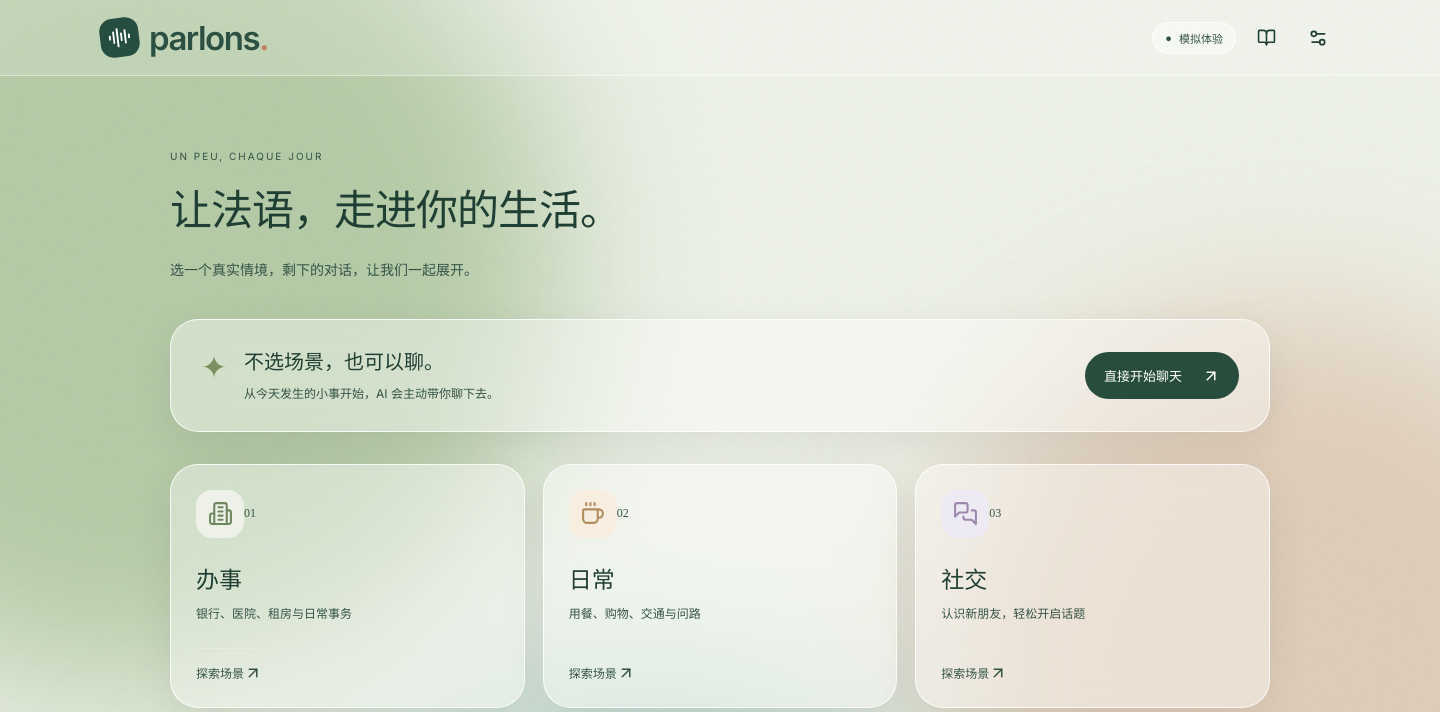
Test: Pause submits the current spoken turn, responds and does not restart listening
Click the button "直接开始聊天" at (1162,376), box [1085,352,1239,399]
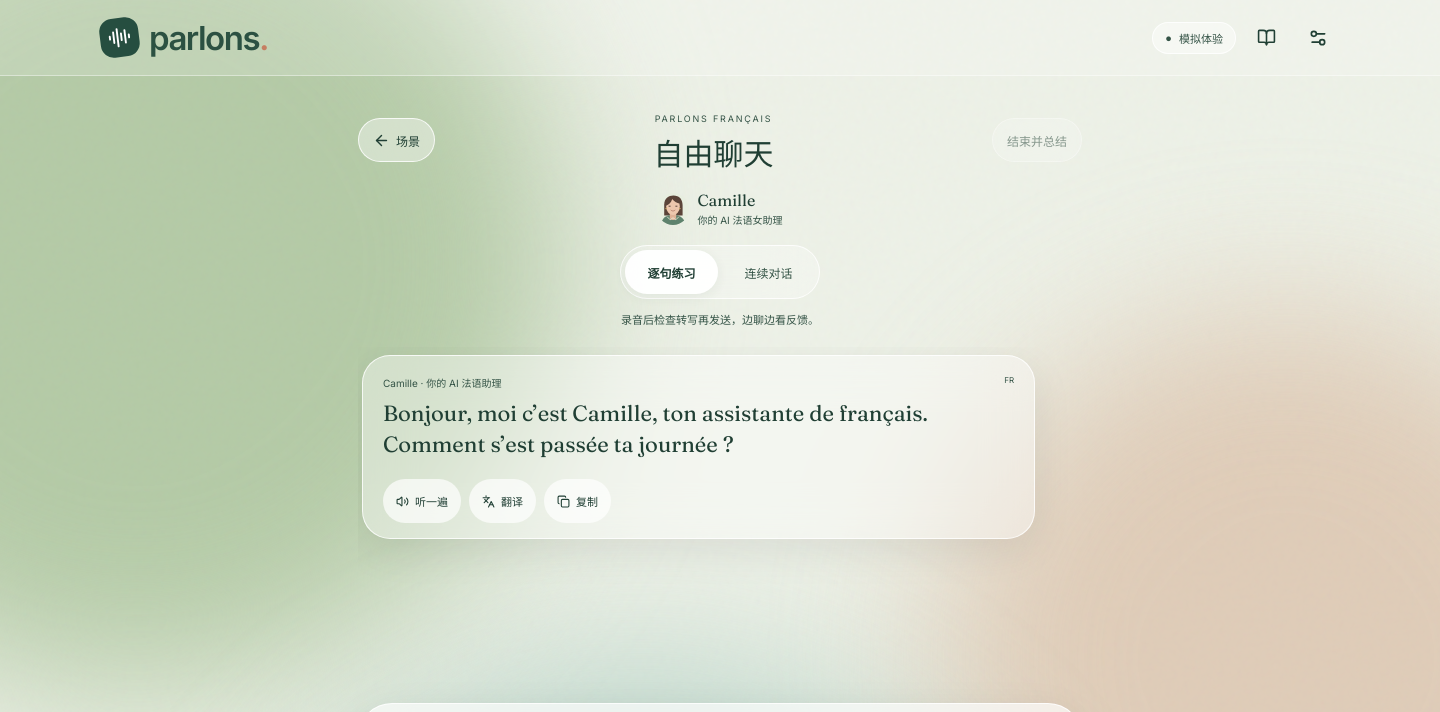
Click the button "连续对话" at (768,272), box [722,250,814,294]
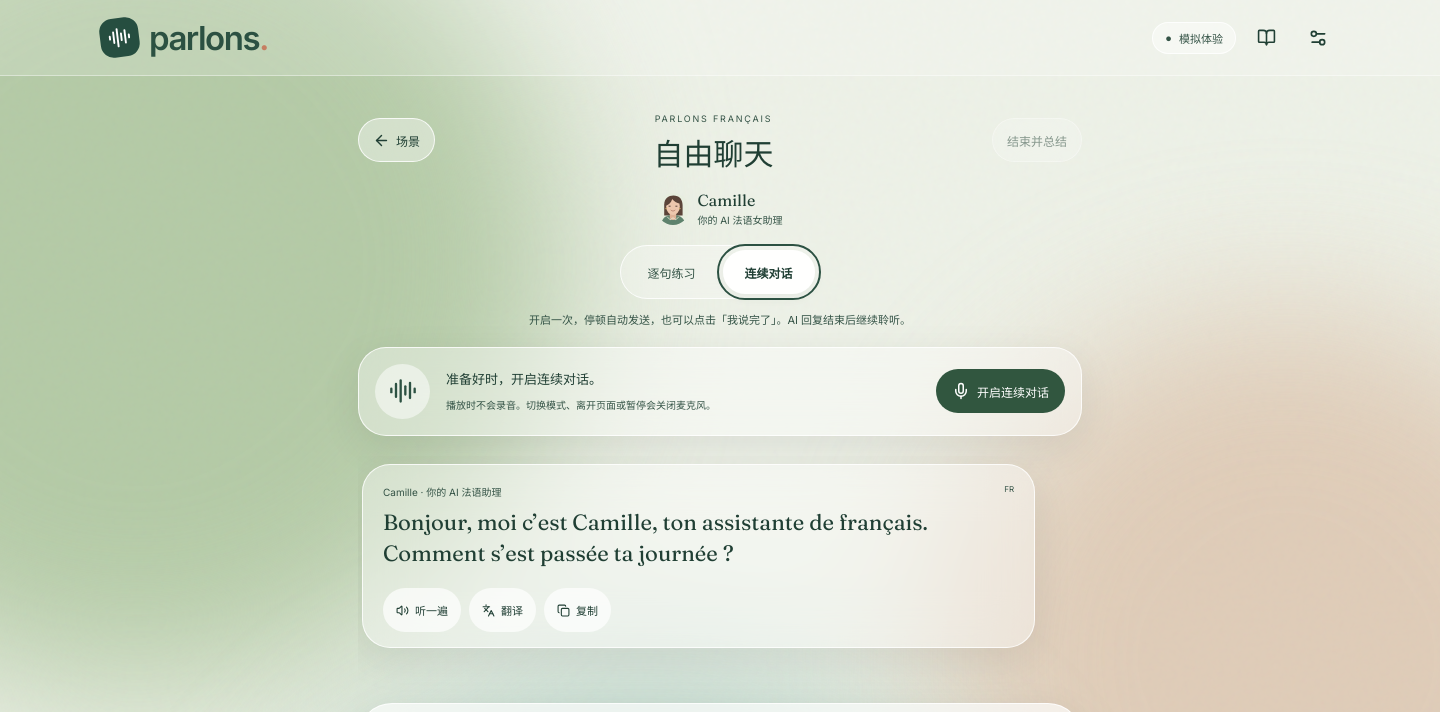
Click the button "开启连续对话" at (1000,391), box [936,369,1065,413]
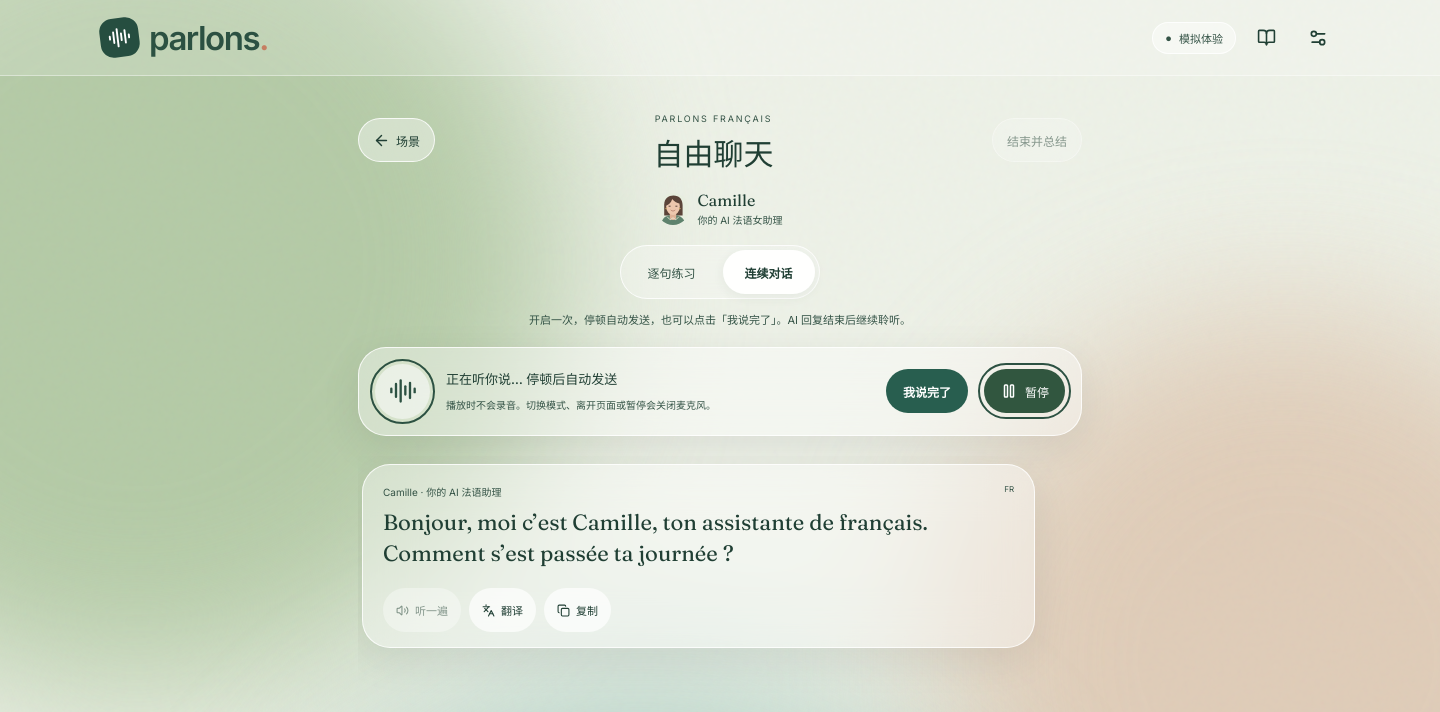
Click the button "暂停" at (1024,391), box [984,369,1065,413]
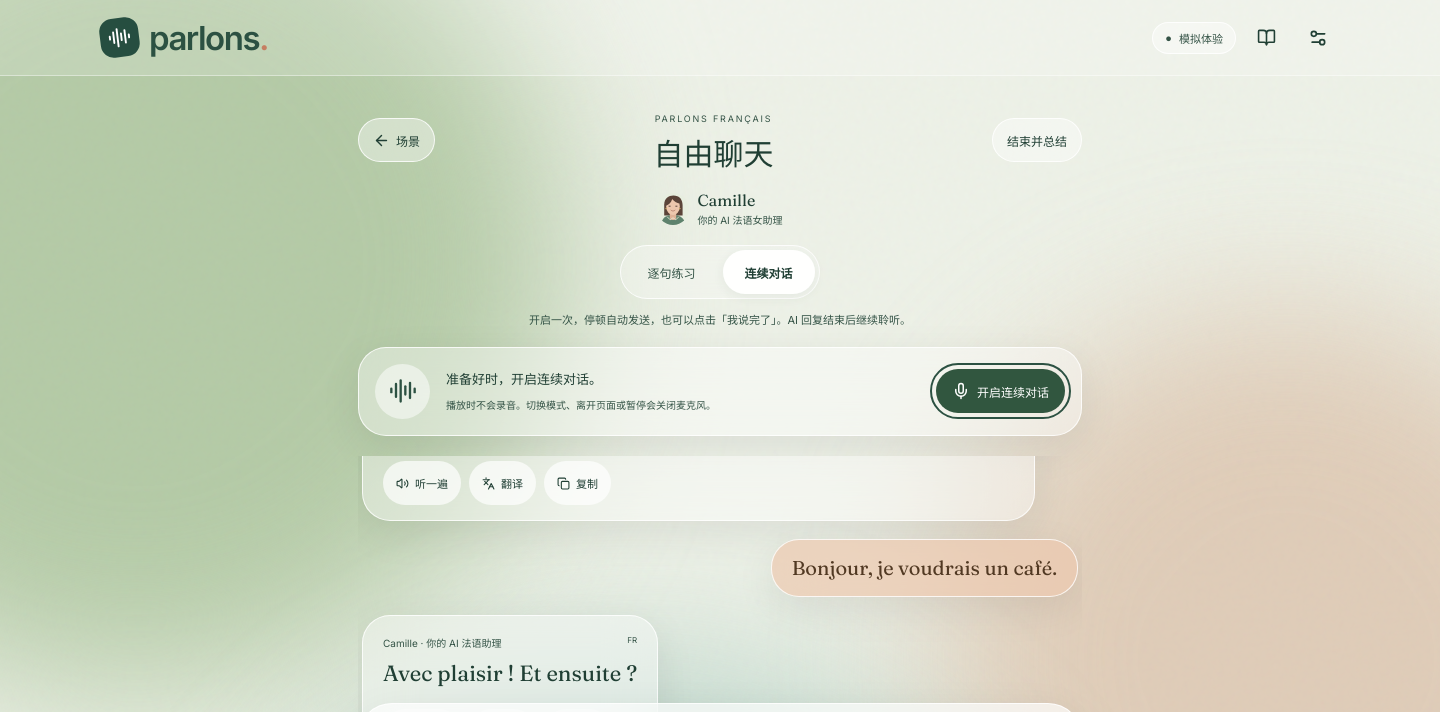
Result: the button "开启连续对话" is enabled at [936,369,1065,413]
Result: the text "Avec plaisir ! Et ensuite ?" is shown at [383,658,637,689]
